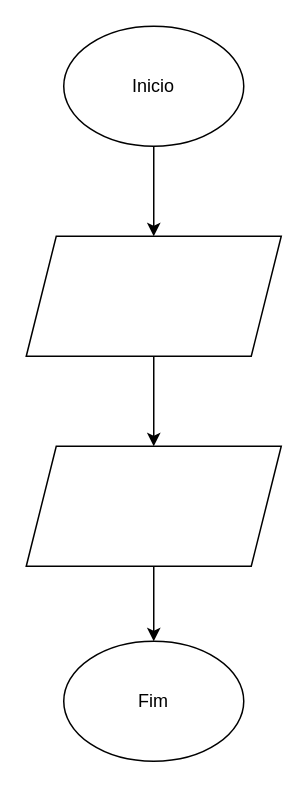
Image size: 308x788. Some labels were removed from this diagram. The shapes that lost their labels are listed below. From the top down, each one's box as (x1, y1, x2, y2) in pixels, then its label:
(25, 235, 281, 356): Entrada de dados do usuário (Nome)
(25, 445, 281, 566): Saída de dados ( saudação com nome do usuário )
